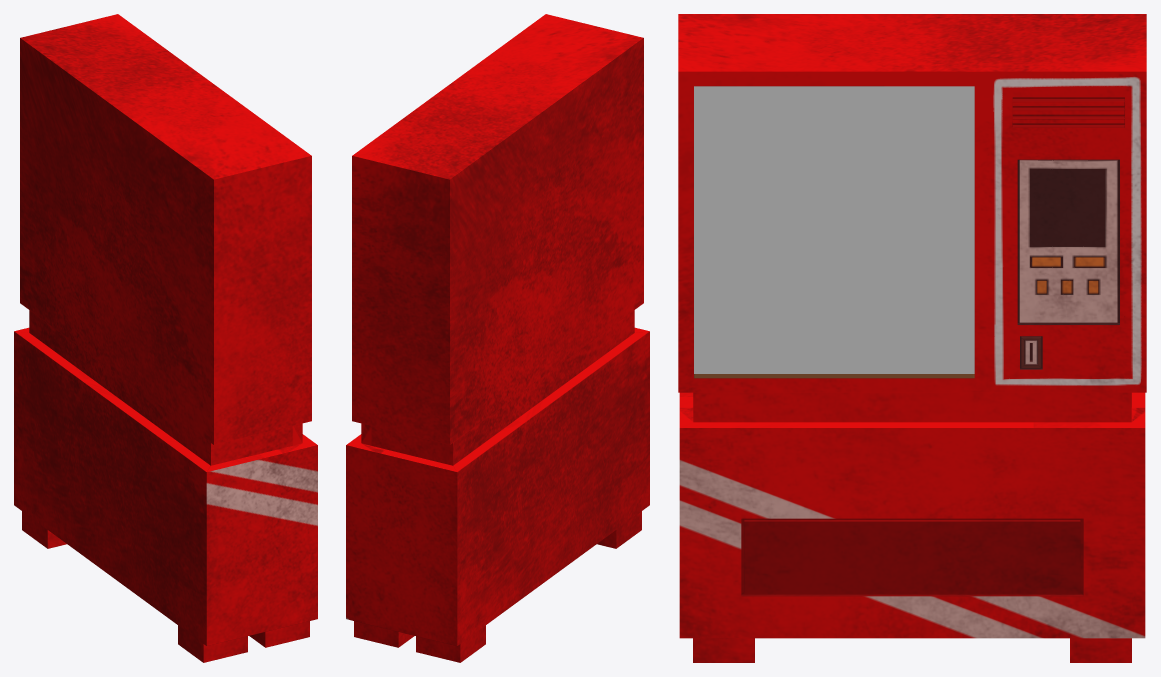
The model's file is vending.fbx.
3 views of the same model, side by side, from view 1: azimuth 30°, elevation 25°; view 2: azimuth 150°, elevation 25°; view 3: azimuth 270°, elevation 25° (orthographic). The views are drawn at different scales.
Parts seen in each view (by area): view 1: Vending; view 2: Vending; view 3: Vending.
Part boxes in pixels (<box>): Vending: <box>14,14,317,662</box>; Vending: <box>346,14,649,662</box>; Vending: <box>678,14,1146,662</box>.
Size of the model in its own units: 0.3767 by 1.57 by 1.13.
2 materials, 1 textured.
